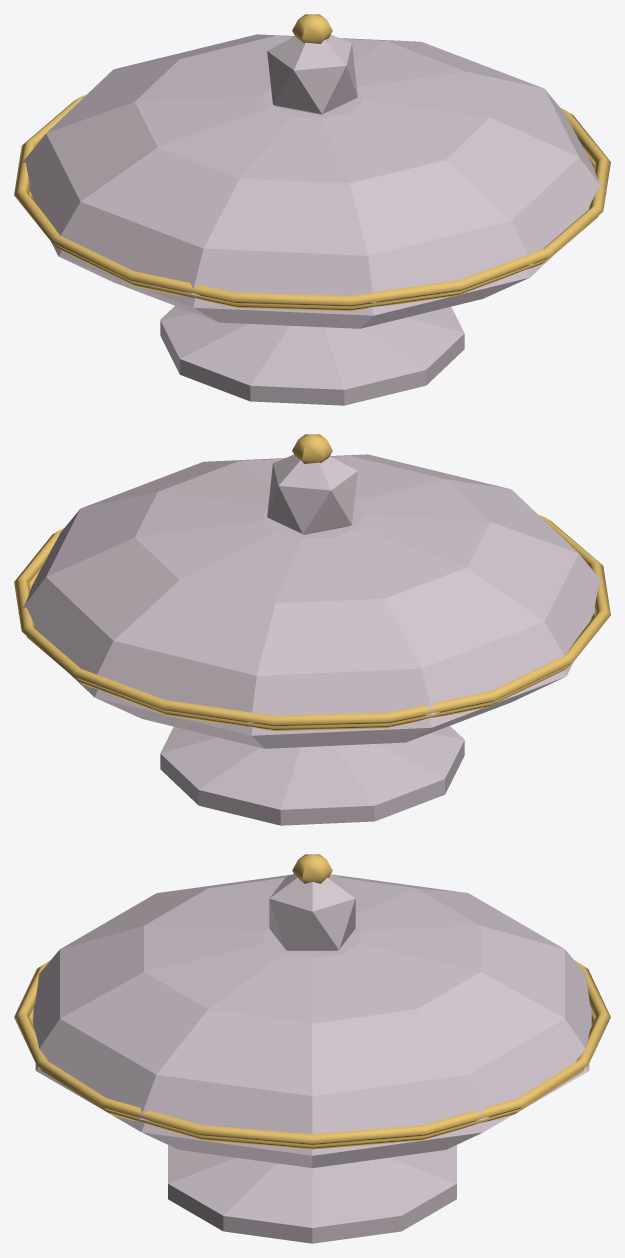
File: bonbon_dish.glb
3 views of the same model, one above another, from view 1: azimuth 30°, elevation 25°; view 2: azimuth 150°, elevation 25°; view 3: azimuth 270°, elevation 25° (orthographic).
Visible parts, largest first — view 1: bonbon_dish; view 2: bonbon_dish; view 3: bonbon_dish.
Part boxes in pixels (x1,y1,x2,y2): bonbon_dish: (14, 14, 610, 405); bonbon_dish: (14, 434, 610, 825); bonbon_dish: (14, 854, 610, 1243).
Size of what is drawn, in the model's own units: 0.25 by 0.15 by 0.25.
